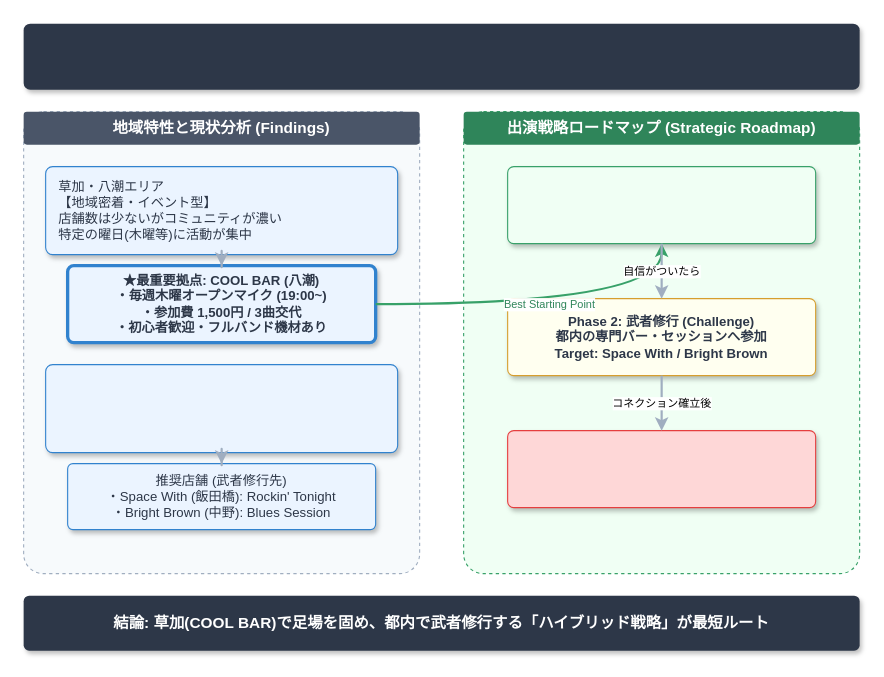
The diagram is 884 pixels wide and 677 high, and some of its shapes have lost their labels. Each missing label, with the centre of its shape:
"Phase 1: 実績構築 (Entry) 「参加費型」の枠で場数を踏む Target: COOL BAR (八潮)" goes at point 662,206.
"Phase 3: 拠点拡大 (Expansion) ファン獲得・ブッキングライブ出演 自主企画イベントの開催へ" goes at point 662,470.
"ライブハウス・出演戦略リサーチ：東京都内＆草加周辺 (Rock/Blues/Folk)" goes at point 442,58.
"東京都内エリア 【ジャンル特化・常設型】 Rock/Blues/Folkの専門バーが多数 毎日セッションが開催されている" goes at point 222,409.
